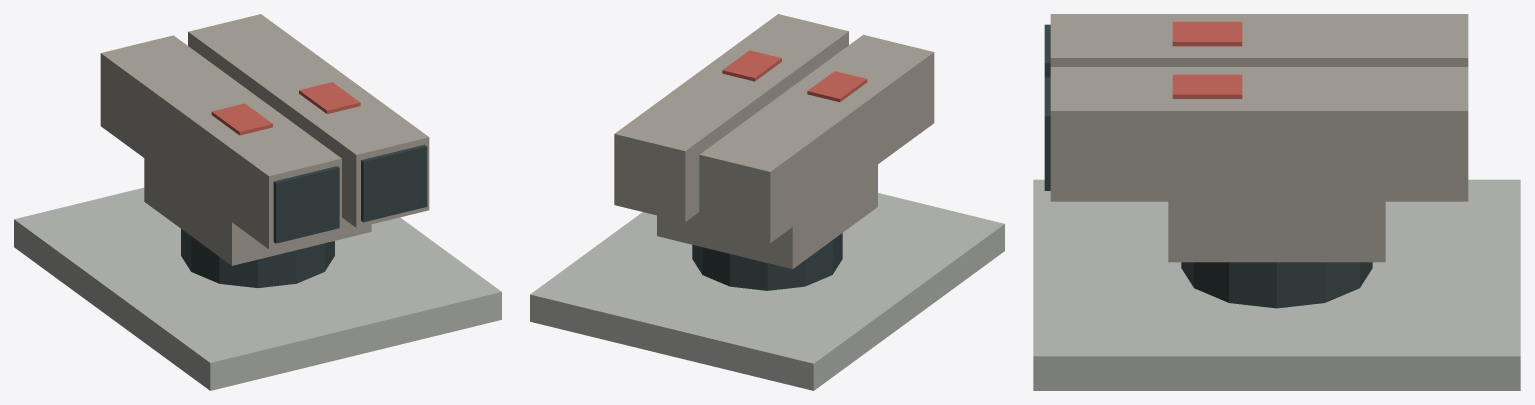
Rendered from MIL_MissileBattery_2.fbx.
3 views of the same model, side by side, from view 1: azimuth 30°, elevation 25°; view 2: azimuth 150°, elevation 25°; view 3: azimuth 270°, elevation 25° (orthographic). The views are drawn at different scales.
Parts seen in each view (by area): view 1: Footing, ElevationPivot_MAT_IslandCliff, ElevationPivot_Gunmetal, Pedestal, Bearing.001, ElevationPivot_MAT_IslandRed; view 2: Footing, ElevationPivot_MAT_IslandCliff, Pedestal, Bearing.001, ElevationPivot_MAT_IslandRed; view 3: ElevationPivot_MAT_IslandCliff, Footing, Pedestal, Bearing.001, ElevationPivot_MAT_IslandRed, ElevationPivot_Gunmetal.
Boxes of the visible parts, x1=… form: Footing: x1=14, y1=187, x2=501, y2=390; ElevationPivot_MAT_IslandCliff: x1=100, y1=14, x2=429, y2=249; ElevationPivot_Gunmetal: x1=273, y1=144, x2=427, y2=243; Pedestal: x1=144, y1=158, x2=371, y2=265; Bearing.001: x1=181, y1=229, x2=334, y2=287; ElevationPivot_MAT_IslandRed: x1=211, y1=82, x2=360, y2=135; Footing: x1=530, y1=193, x2=1004, y2=390; ElevationPivot_MAT_IslandCliff: x1=614, y1=14, x2=934, y2=242; Pedestal: x1=657, y1=164, x2=877, y2=269; Bearing.001: x1=692, y1=233, x2=842, y2=290; ElevationPivot_MAT_IslandRed: x1=722, y1=50, x2=867, y2=102; ElevationPivot_MAT_IslandCliff: x1=1050, y1=14, x2=1468, y2=201; Footing: x1=1033, y1=179, x2=1520, y2=390; Pedestal: x1=1168, y1=201, x2=1385, y2=262; Bearing.001: x1=1181, y1=262, x2=1372, y2=308; ElevationPivot_MAT_IslandRed: x1=1172, y1=21, x2=1242, y2=98; ElevationPivot_Gunmetal: x1=1044, y1=24, x2=1050, y2=190.
Bounding box in the file's own units: 480 × 310 × 560.
